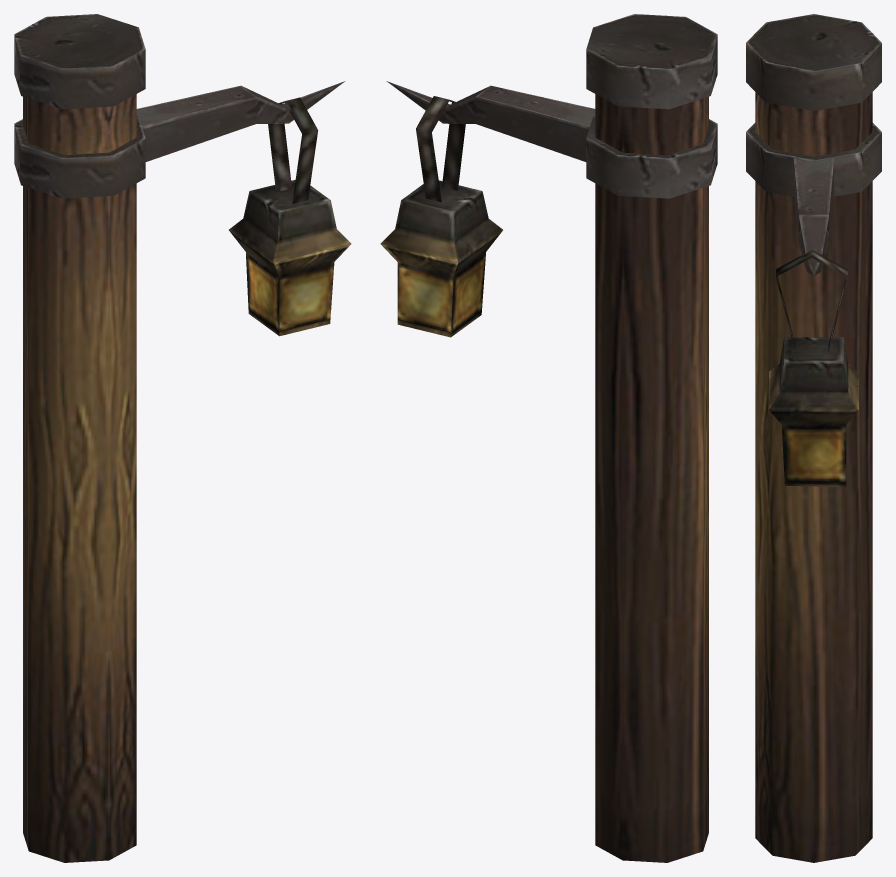
Rendered from Treasure_Light_04.FBX.
3 views of the same model, side by side, from view 1: azimuth 30°, elevation 25°; view 2: azimuth 150°, elevation 25°; view 3: azimuth 270°, elevation 25° (orthographic).
Parts seen in each view (by area): view 1: Treasure_Light_04; view 2: Treasure_Light_04; view 3: Treasure_Light_04.
Part boxes in pixels (bbox=[...]): Treasure_Light_04: bbox=[14, 14, 351, 862]; Treasure_Light_04: bbox=[380, 14, 717, 862]; Treasure_Light_04: bbox=[746, 14, 881, 862].
Bounding box in the file's own units: 2.25 × 5.29 × 0.8173.
